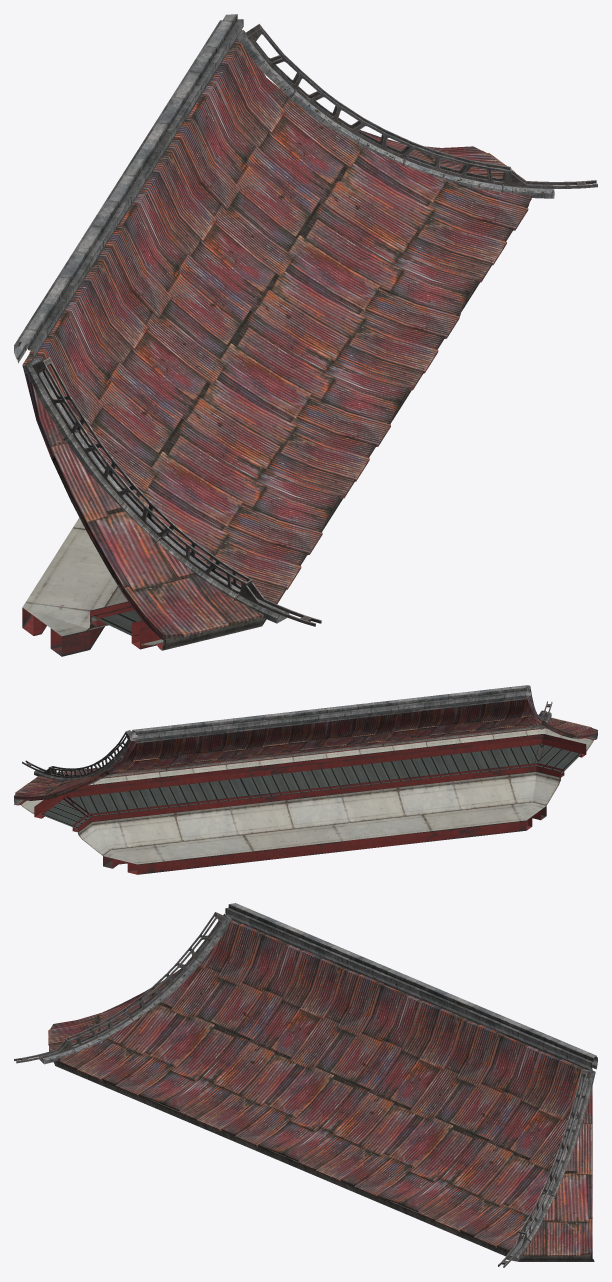
File: Pagoda_Tile_Roof_Corner_Round_10000x2500_A.FBX
The picture shows the model from 3 angles, top to bottom: view 1: azimuth 30°, elevation 25°; view 2: azimuth 150°, elevation 25°; view 3: azimuth 270°, elevation 25°; orthographic projection. The views are drawn at different scales.
Parts seen in each view (by area): view 1: Geometry_Pagoda_Tile_Roof_Corner_Round_10000x2500_A_LOD00; view 2: Geometry_Pagoda_Tile_Roof_Corner_Round_10000x2500_A_LOD00; view 3: Geometry_Pagoda_Tile_Roof_Corner_Round_10000x2500_A_LOD00.
Boxes of the visible parts, <box> form: Geometry_Pagoda_Tile_Roof_Corner_Round_10000x2500_A_LOD00: <box>14,14,597,656</box>; Geometry_Pagoda_Tile_Roof_Corner_Round_10000x2500_A_LOD00: <box>14,685,597,874</box>; Geometry_Pagoda_Tile_Roof_Corner_Round_10000x2500_A_LOD00: <box>14,903,597,1267</box>.
Size of what is drawn, in the model's own units: 8092 by 2789 by 8118.
3 materials, 3 textured.
